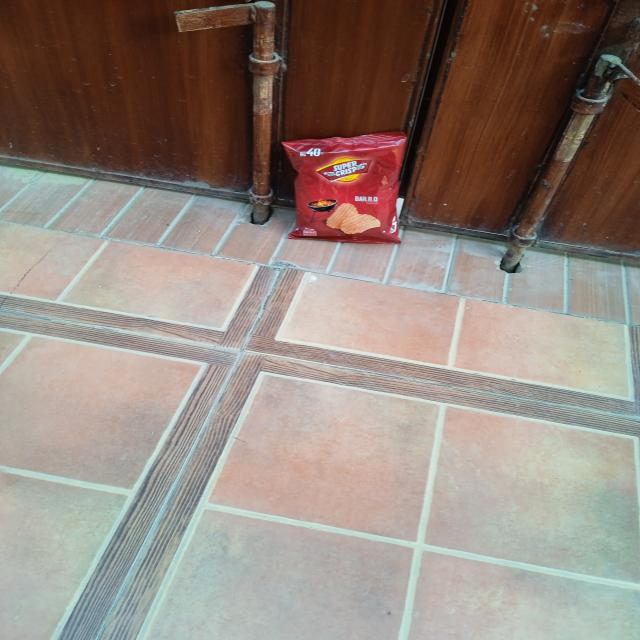Plastic: (279, 130, 413, 246)
